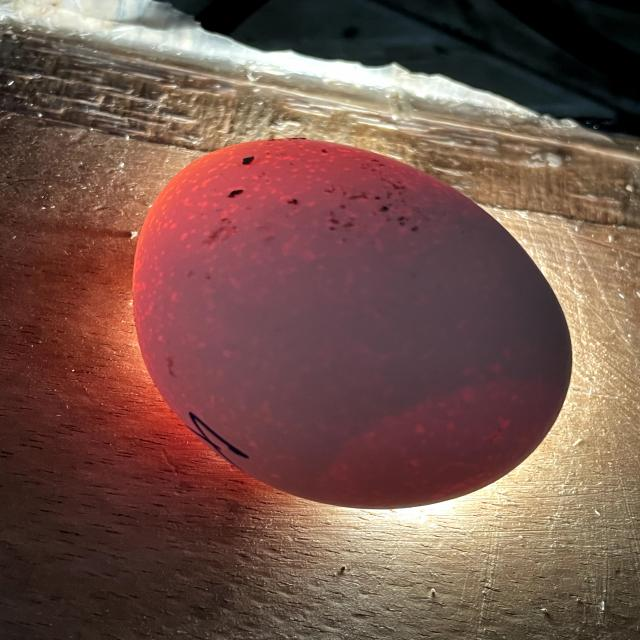fertile: (133, 139, 572, 508)
